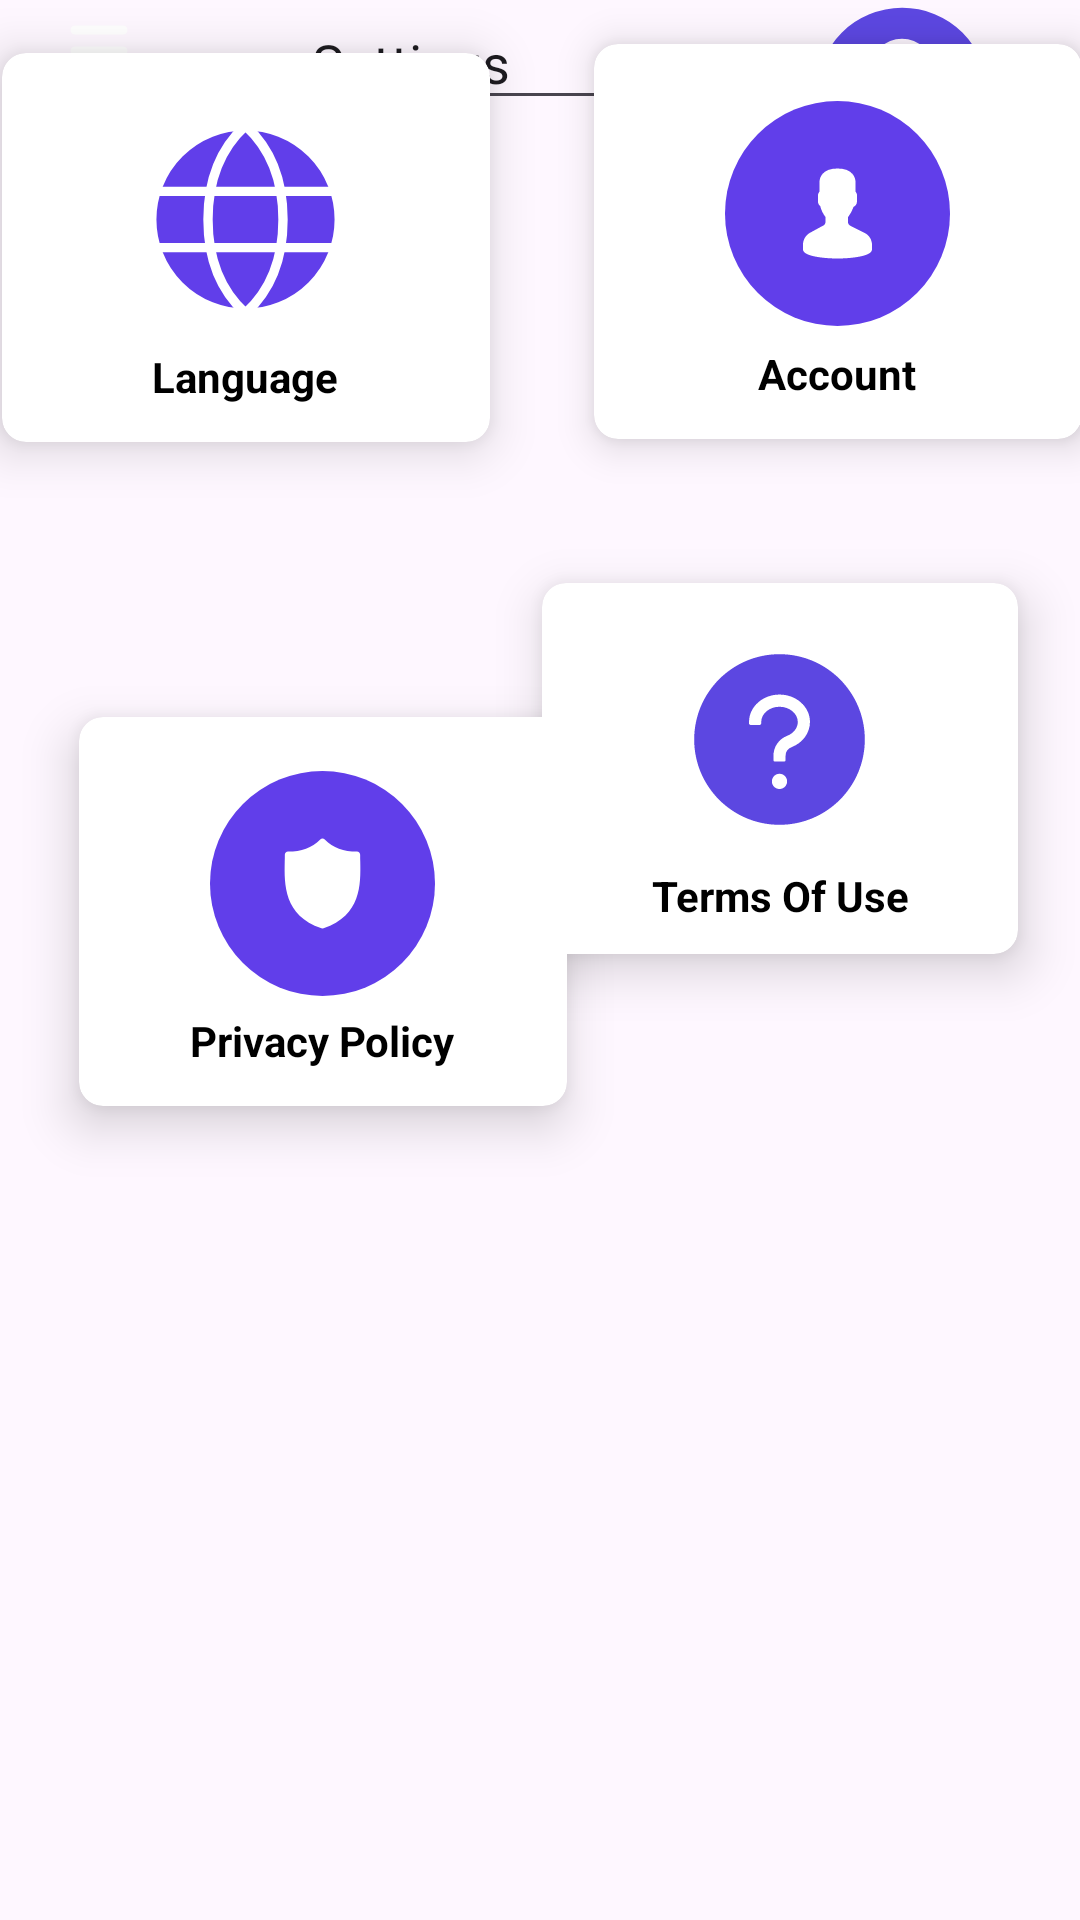

Icon bounding boxes for this 1080w x 1920h phone screenshot, format (x1, y1, x2, y2):
question circle: (694, 654, 865, 825)
